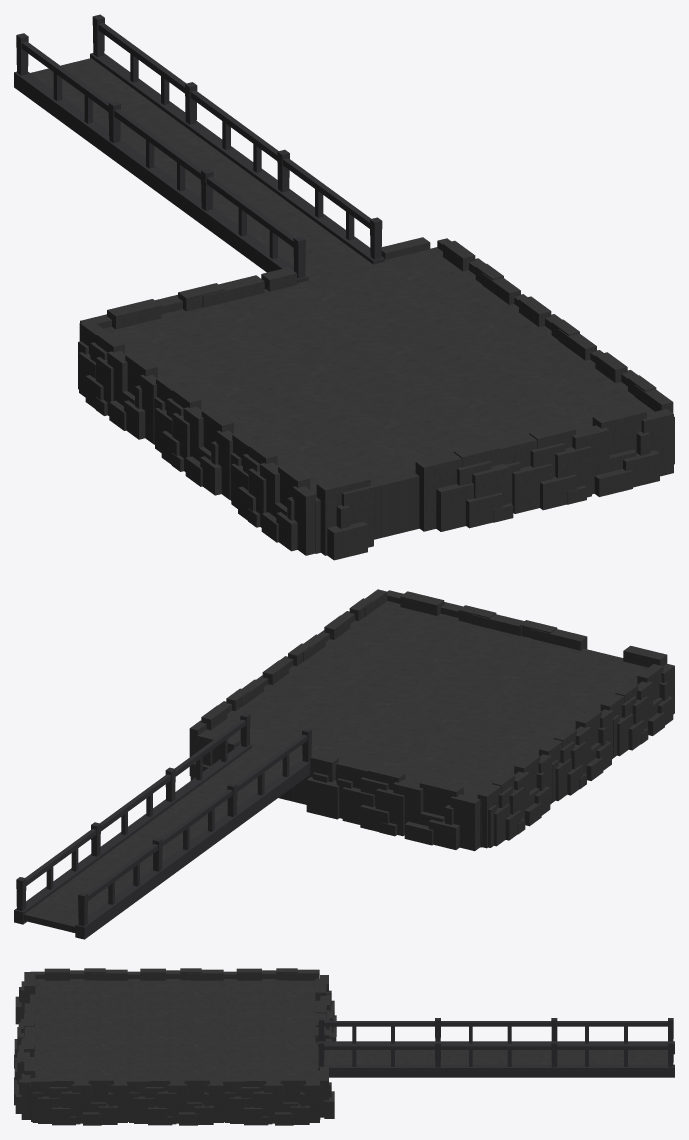
The model's file is stage1_1_3.FBX.
The picture shows the model from 3 angles, top to bottom: view 1: azimuth 30°, elevation 25°; view 2: azimuth 150°, elevation 25°; view 3: azimuth 270°, elevation 25°; orthographic projection. The views are drawn at different scales.
Visible parts, largest first — view 1: Box3024, Bridge_2, Bridge_004, Bridge_003, Box5937, Box5939, Box458, Box459, Box5942, Box461, Box474, Box5945 (+16 smaller); view 2: Box3024, Bridge_004, Bridge_003, Bridge_2, Box5955, Box5972, Box5954, Box5961, Box5956, Box5957, Box5937, Box458 (+10 smaller); view 3: Box3024, Bridge_004, Bridge_003, Bridge_2, Box5895, Box5910, Box5925, Box5894, Box5909, Box5924, Box5911, Box5927 (+27 smaller).
Part boxes in pixels (x1=…): Box3024: x1=30, y1=58, x2=654, y2=553; Bridge_2: x1=199, y1=150, x2=384, y2=282; Bridge_004: x1=14, y1=14, x2=197, y2=156; Bridge_003: x1=106, y1=82, x2=288, y2=225; Box5937: x1=415, y1=452, x2=461, y2=531; Box5939: x1=316, y1=473, x2=370, y2=555; Box458: x1=592, y1=405, x2=646, y2=454; Box459: x1=641, y1=409, x2=673, y2=476; Box5942: x1=436, y1=483, x2=473, y2=531; Box461: x1=512, y1=463, x2=552, y2=513; Box474: x1=292, y1=486, x2=315, y2=555; Box5945: x1=327, y1=521, x2=367, y2=560; Box3024: x1=24, y1=601, x2=647, y2=932; Bridge_004: x1=14, y1=822, x2=164, y2=939; Bridge_003: x1=89, y1=767, x2=236, y2=884; Bridge_2: x1=168, y1=713, x2=311, y2=829; Box5955: x1=450, y1=794, x2=480, y2=851; Box5972: x1=306, y1=777, x2=339, y2=819; Box5954: x1=419, y1=778, x2=463, y2=816; Box5961: x1=375, y1=788, x2=404, y2=836; Box5956: x1=393, y1=780, x2=423, y2=823; Box5957: x1=342, y1=787, x2=374, y2=824; Box5937: x1=531, y1=629, x2=587, y2=650; Box458: x1=400, y1=591, x2=444, y2=615; Box3024: x1=30, y1=979, x2=667, y2=1119; Bridge_004: x1=550, y1=1018, x2=674, y2=1077; Bridge_003: x1=434, y1=1018, x2=558, y2=1077; Bridge_2: x1=318, y1=1018, x2=441, y2=1077; Box5895: x1=303, y1=1082, x2=319, y2=1122; Box5910: x1=207, y1=1082, x2=223, y2=1122; Box5925: x1=111, y1=1082, x2=127, y2=1122; Box5894: x1=280, y1=1077, x2=305, y2=1104; Box5909: x1=184, y1=1077, x2=209, y2=1104; Box5924: x1=88, y1=1077, x2=113, y2=1104; Box5911: x1=168, y1=1082, x2=187, y2=1123; Box5927: x1=38, y1=1096, x2=59, y2=1123.
Bounding box in the file's own units: 1228 × 2878 × 283.
Materials: 2 (2 with a texture image).
